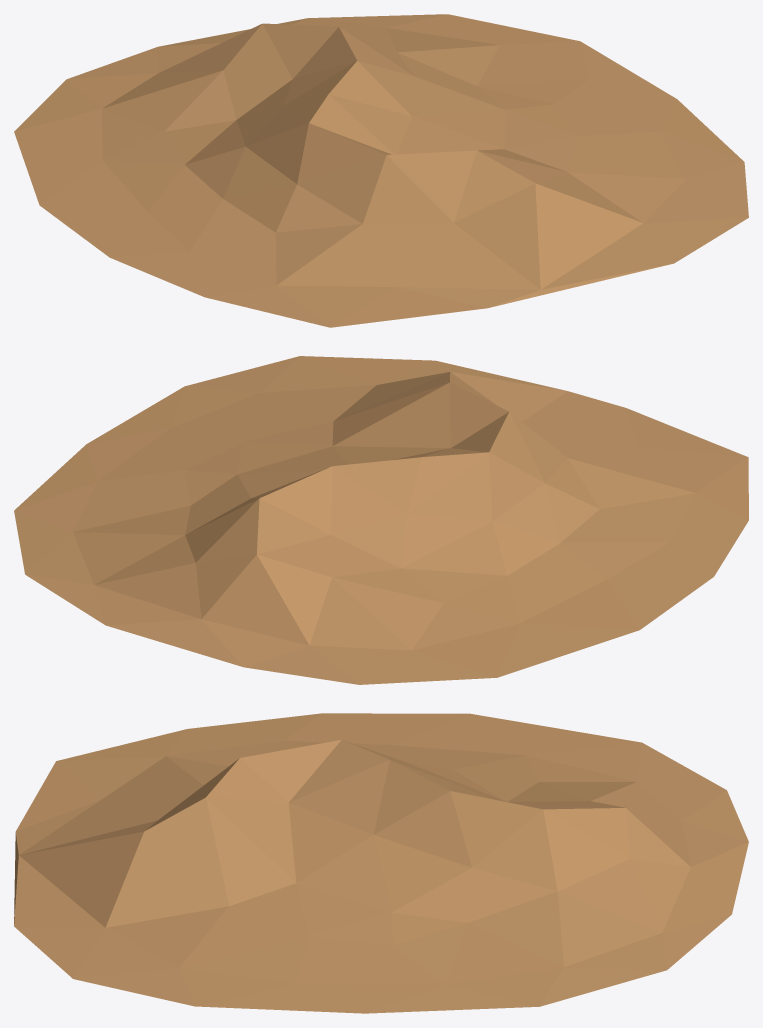
Rendered from TB_D_Env_DuneA_A.FBX.
3 renders of one model, top to bottom at view 1: azimuth 30°, elevation 25°; view 2: azimuth 150°, elevation 25°; view 3: azimuth 270°, elevation 25°, orthographic. The views are drawn at different scales.
Parts seen in each view (by area): view 1: TB_D_Env_DuneA_A; view 2: TB_D_Env_DuneA_A; view 3: TB_D_Env_DuneA_A.
Boxes of the visible parts, x1,y1,x2,y2 form: TB_D_Env_DuneA_A: (14, 14, 748, 327); TB_D_Env_DuneA_A: (14, 356, 748, 684); TB_D_Env_DuneA_A: (14, 713, 748, 1013).
Size of the model in its own units: 15.41 by 1.96 by 15.93.
